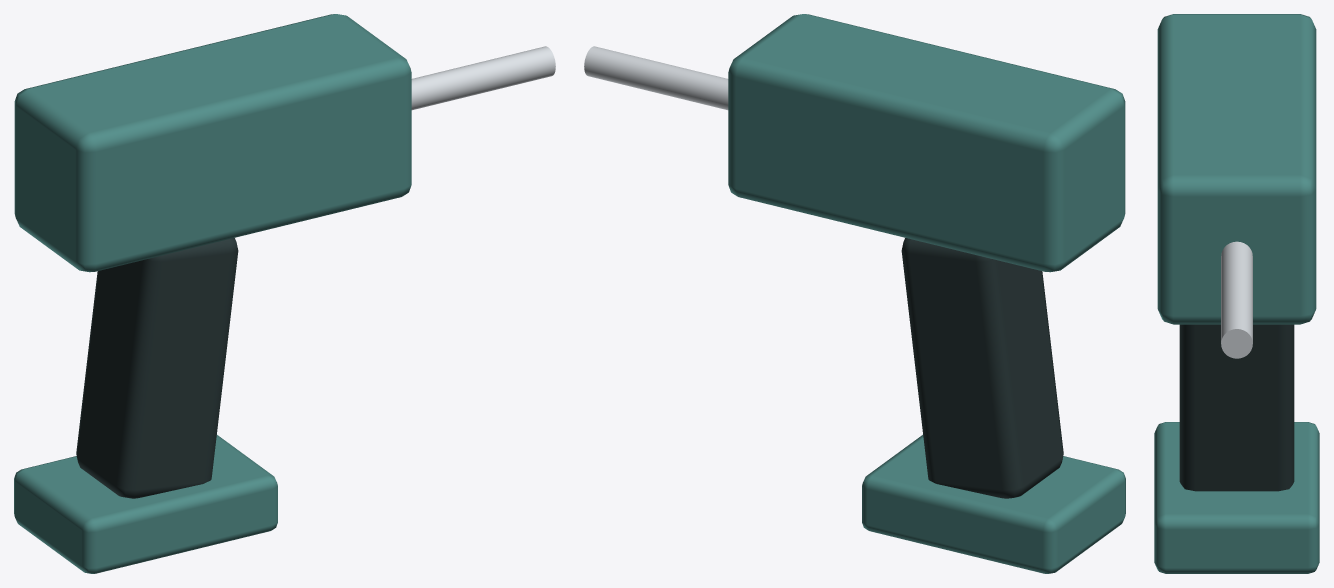
Rendered from wp-perceuse.glb.
3 renders of one model, left to right at view 1: azimuth 30°, elevation 25°; view 2: azimuth 150°, elevation 25°; view 3: azimuth 270°, elevation 25°, orthographic. The views are drawn at different scales.
Parts seen in each view (by area): view 1: wp-perceuse; view 2: wp-perceuse; view 3: wp-perceuse.
Boxes of the visible parts, bbox=[...] form: wp-perceuse: bbox=[14, 14, 555, 573]; wp-perceuse: bbox=[584, 14, 1125, 573]; wp-perceuse: bbox=[1154, 14, 1319, 573].
Size of the model in its own units: 0.3 by 0.25 by 0.08.
